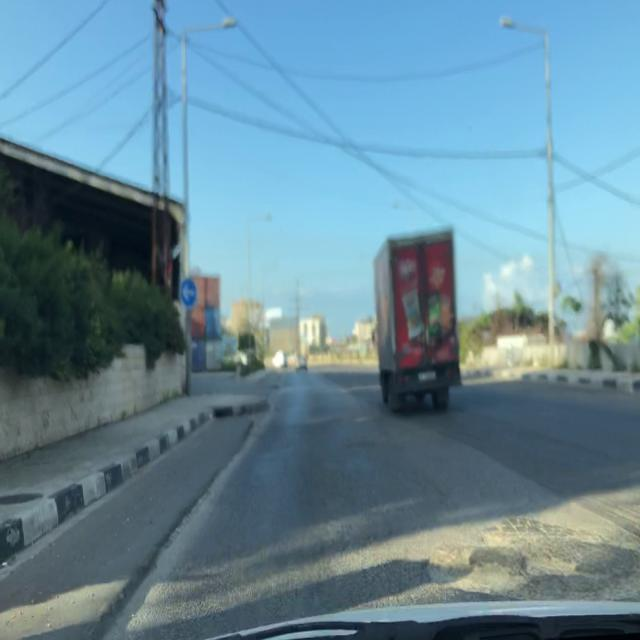Pothole: (424, 540, 597, 602)
